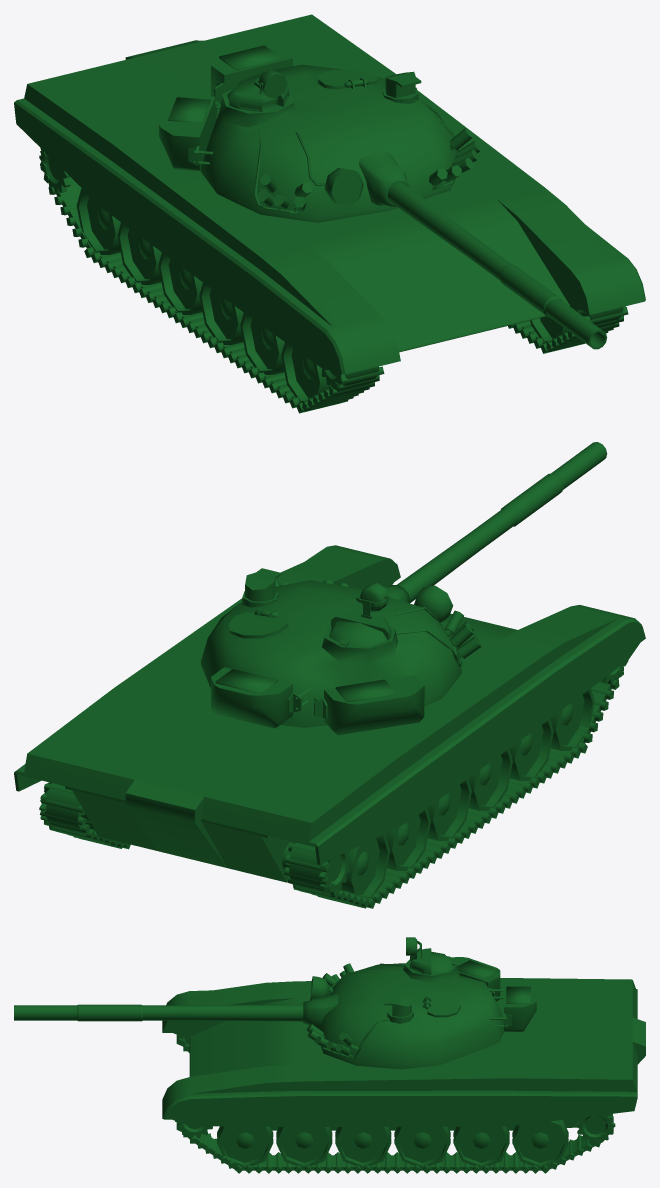
The model's file is newTank.obj.
The picture shows the model from 3 angles, top to bottom: view 1: azimuth 30°, elevation 25°; view 2: azimuth 150°, elevation 25°; view 3: azimuth 270°, elevation 25°; orthographic projection. The views are drawn at different scales.
Visible parts, largest first — view 1: NewShip:BHole1; view 2: NewShip:BHole1; view 3: NewShip:BHole1.
Boxes of the visible parts, bbox=[...] form: NewShip:BHole1: bbox=[14, 14, 645, 413]; NewShip:BHole1: bbox=[14, 442, 645, 908]; NewShip:BHole1: bbox=[14, 937, 645, 1173].
Size of the model in its own units: 12.72 by 9.3 by 31.72.
